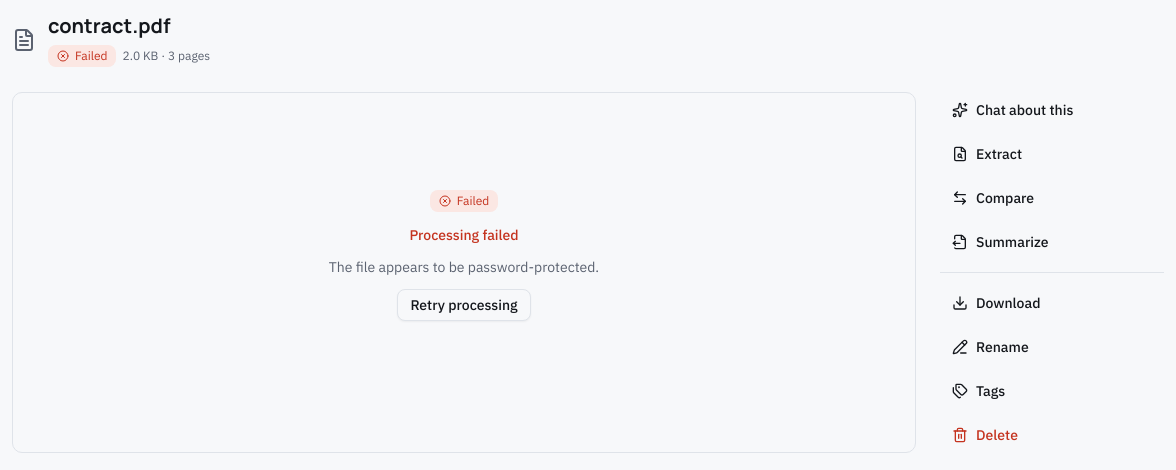
DocumentViewer — FR-DOC-003, FR-DOC-008, FR-PROC-005 › shows a Retry processing action for a failed document, and reprocessing moves it back to queued
Check: the text "Processing failed" is shown, box [409,225,519,245]
Check: the text "The file appears to be password-protected." is shown, box [329,257,599,277]
What coordinates should you click on to do the following:
click the button "Retry processing"
I would click on:
 (464, 305)
Its box is [397,289,531,321].
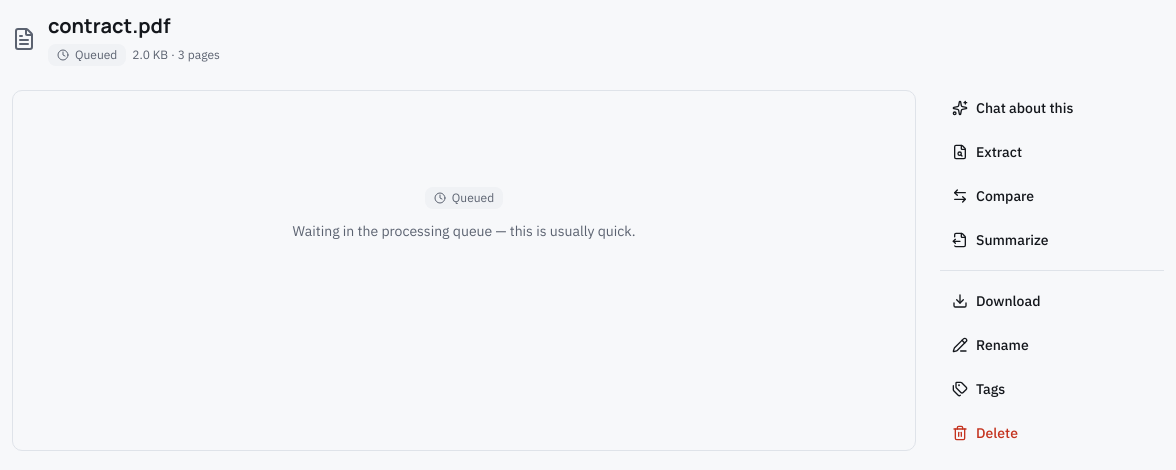
Check: the text "Processing failed" is gone
Check: the text "Queued" next to "2.0 KB" is shown, box [75,47,117,62]
